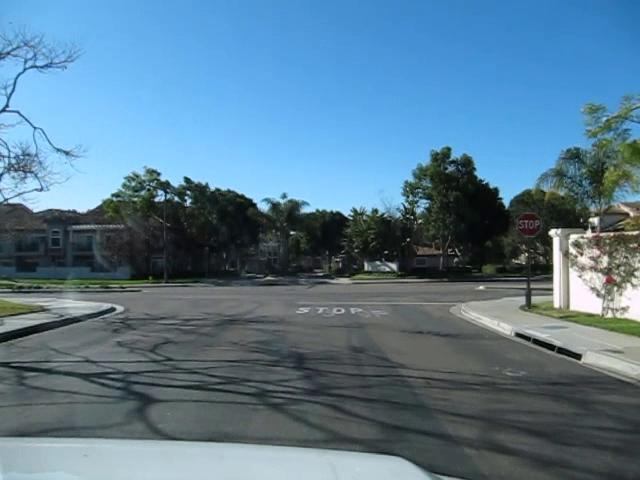stop: (515, 210, 542, 238)
